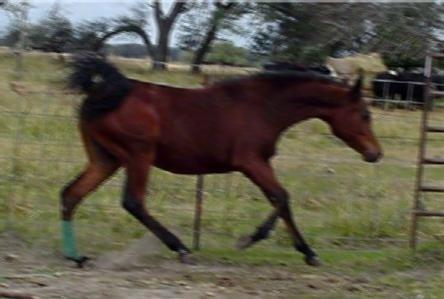horse: (48, 48, 382, 268)
